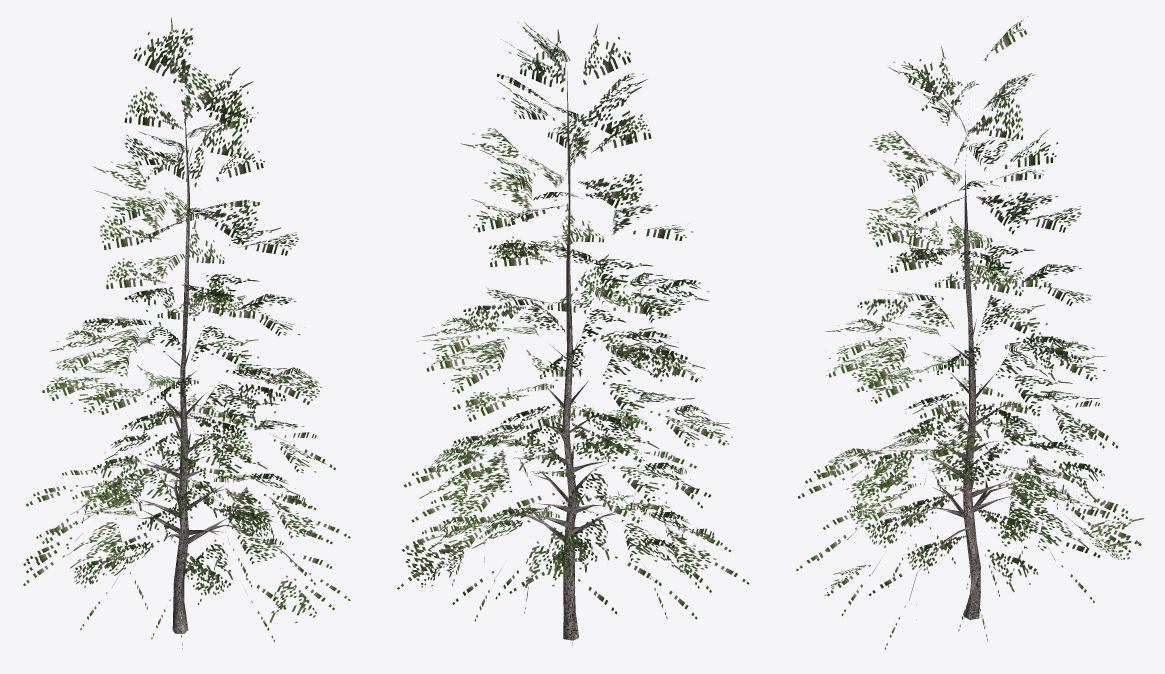
The model's file is tree_fir_lo.glb.
3 renders of one model, left to right at view 1: azimuth 30°, elevation 25°; view 2: azimuth 150°, elevation 25°; view 3: azimuth 270°, elevation 25°, orthographic. The views are drawn at different scales.
Visible parts, largest first — view 1: m; view 2: m; view 3: m.
Part boxes in pixels (x1=…): m: x1=23, y1=17, x2=350, y2=648; m: x1=397, y1=22, x2=749, y2=645; m: x1=796, y1=16, x2=1144, y2=649.
Size of the model in its own units: 0.5438 by 1 by 0.5386.
Materials: 2 (2 with a texture image).
